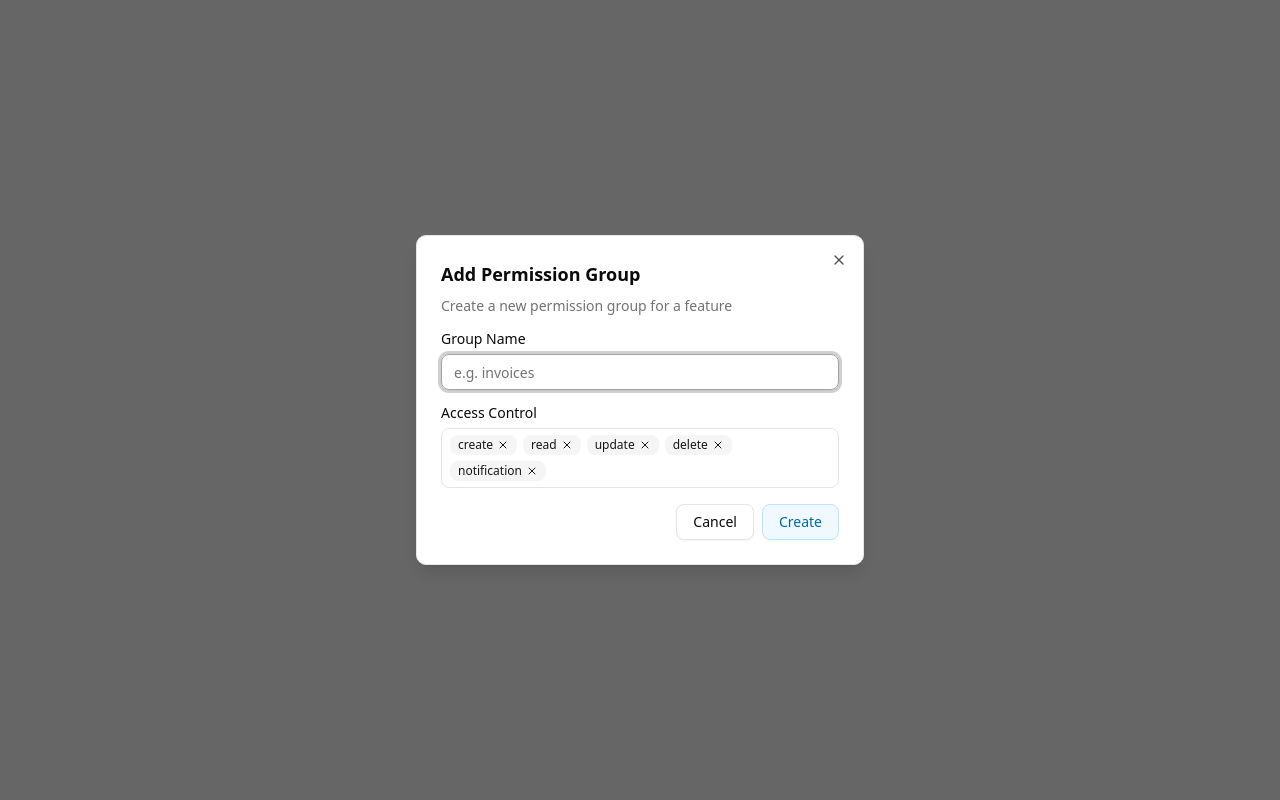
Scenario: PermissionGroupDialog — create mode › empty group name + Create → validator code rendered for name
Click the button "Create" at point(800, 522), box [762,504,839,540]
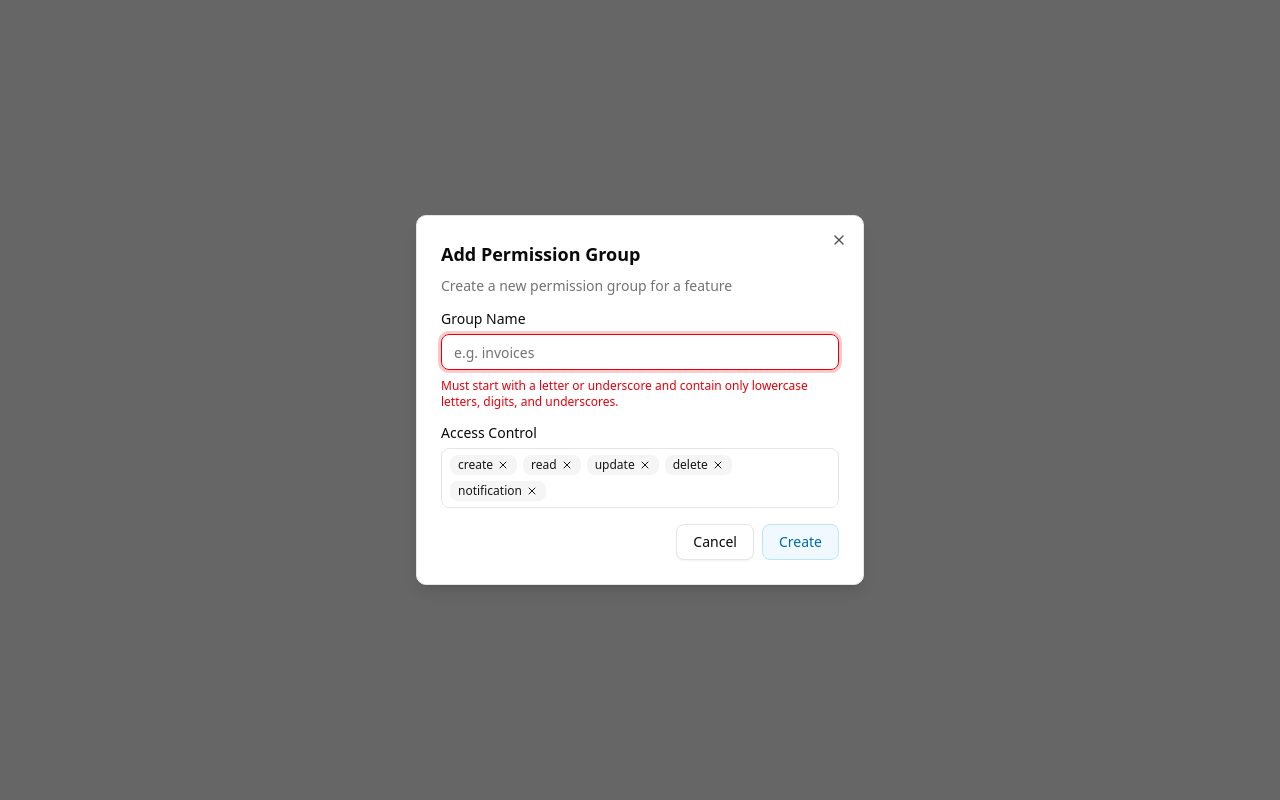
Expected: the text "Must start with a letter or underscore" is shown, [441,377,808,410]
